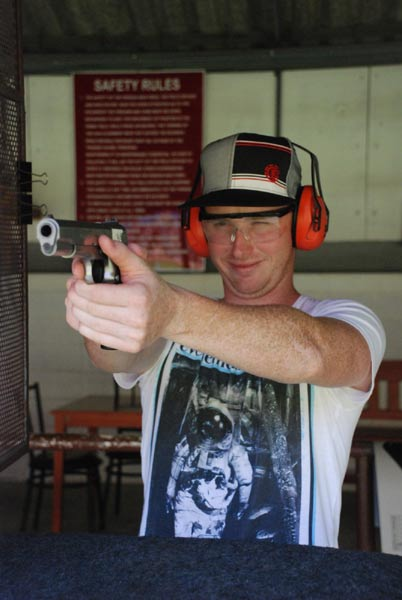gun: (33, 213, 132, 292)
